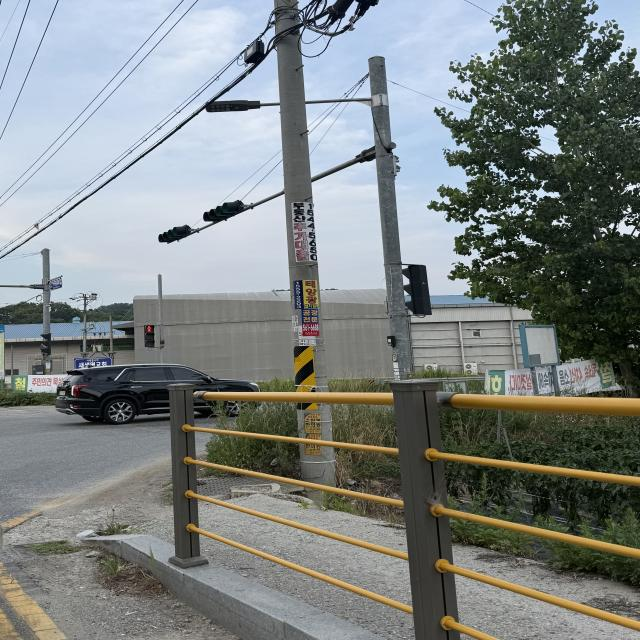car: (56, 357, 273, 432)
